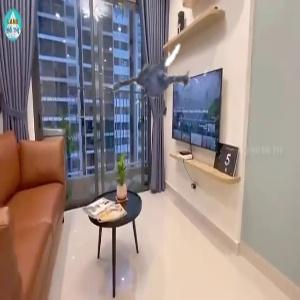drone: (106, 24, 211, 129)
